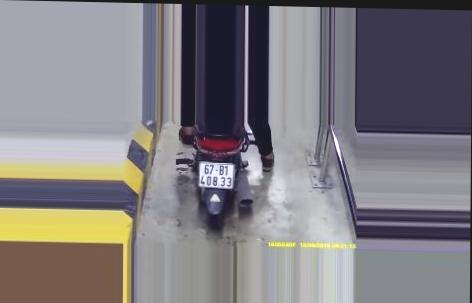License_Plate: (194, 158, 237, 192)
